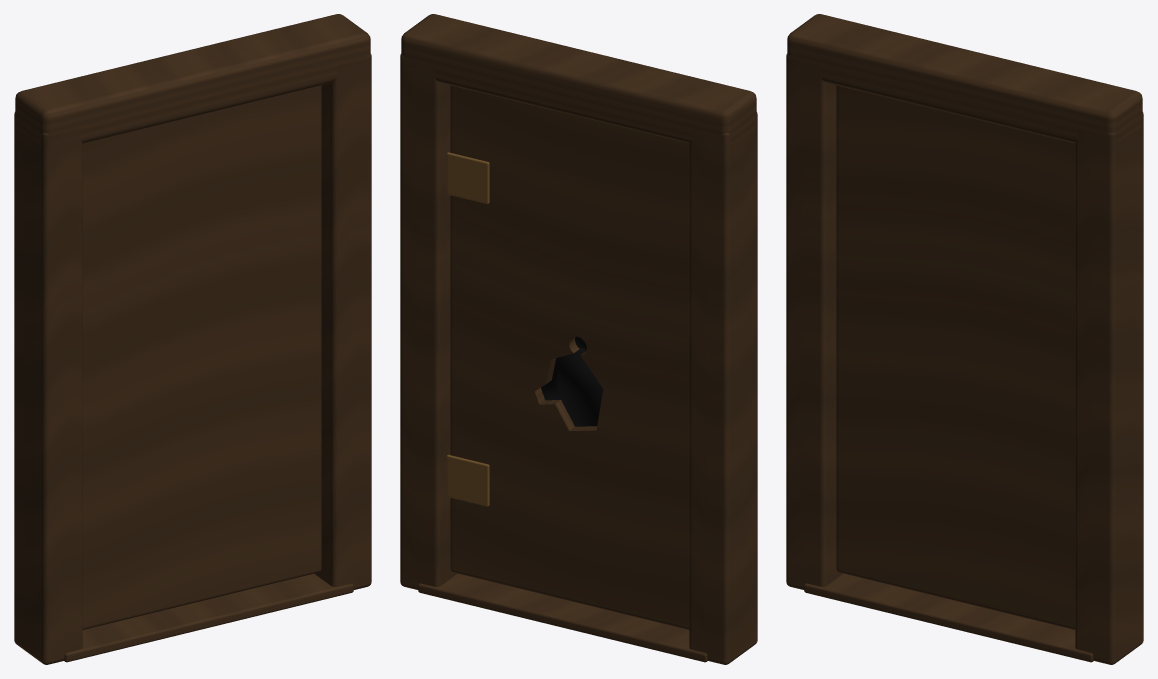
File: E07_PendantDoor.fbx
The picture shows the model from 3 angles, left to right: view 1: azimuth 30°, elevation 25°; view 2: azimuth 150°, elevation 25°; view 3: azimuth 330°, elevation 25°; orthographic projection.
Parts seen in each view (by area): view 1: DoorHinge_Mesh, DoorFrame_Mesh; view 2: DoorHinge_Mesh, DoorFrame_Mesh; view 3: DoorHinge_Mesh, DoorFrame_Mesh.
Part boxes in pixels (x1,y1,x2,y2): DoorHinge_Mesh: (82, 85, 321, 629); DoorFrame_Mesh: (14, 14, 371, 664); DoorHinge_Mesh: (446, 85, 689, 629); DoorFrame_Mesh: (400, 14, 757, 664); DoorHinge_Mesh: (836, 85, 1075, 629); DoorFrame_Mesh: (786, 14, 1143, 664).
Bounding box in the file's own units: 0.148 × 0.238 × 0.027.
